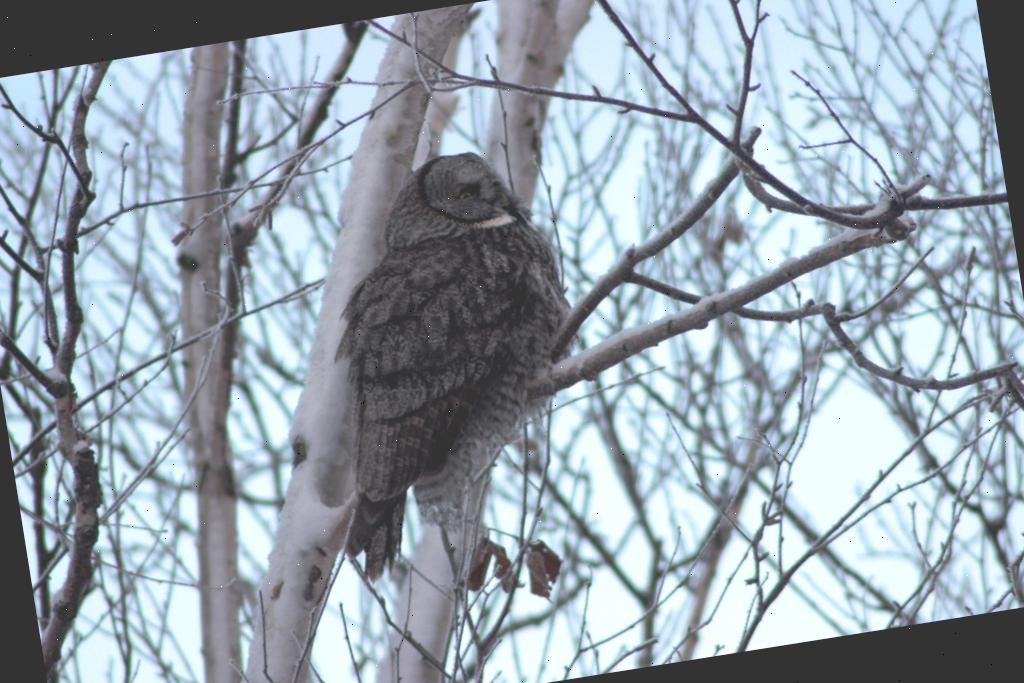Owl: (254, 142, 600, 592)
